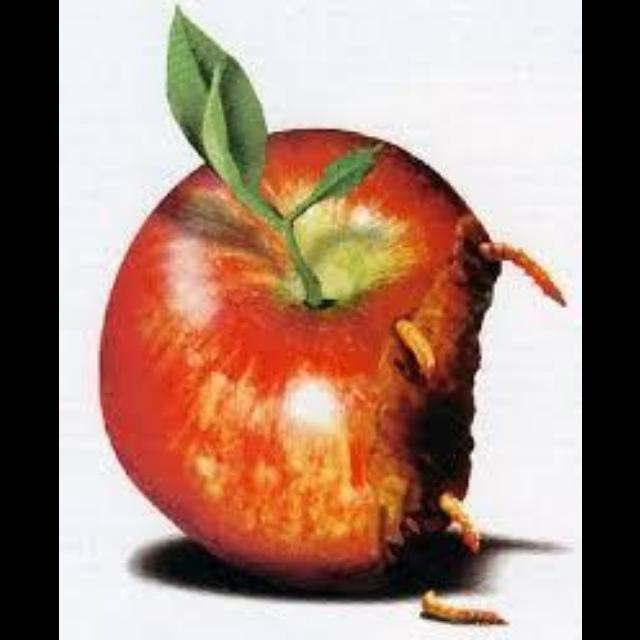apple: (99, 10, 561, 586)
pest: (356, 228, 501, 552)
rotten: (357, 223, 496, 557)
